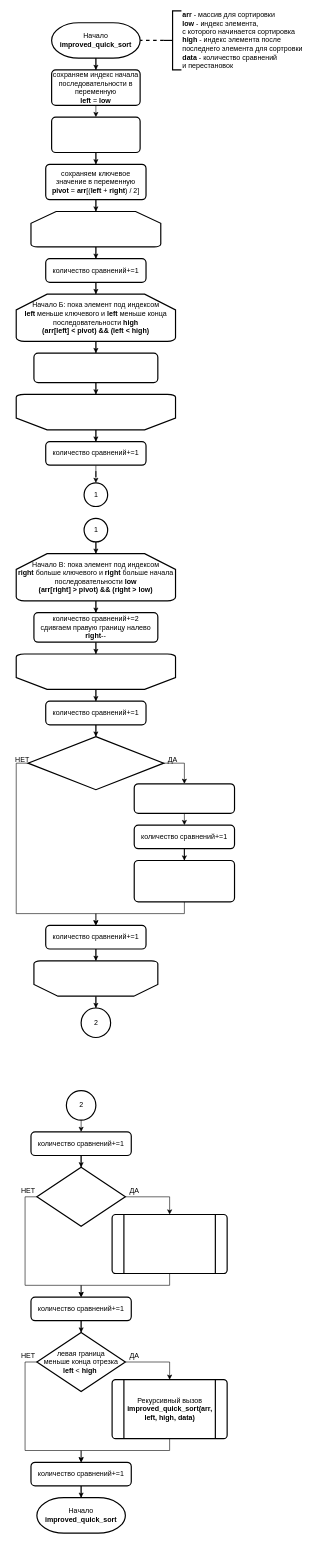
The diagram is 313 pixels wide and 1543 high, and some of its shapes have lost their labels. The centre of each missing label's shape, as x and y in pixels:
"если левая граница меньше или равна правой left <= right" belongs at (x=95, y=763).
"количество сравнений+=2 сдивгаем левую границу направо left ++" belongs at (x=95, y=367).
"Конец цикла А" belongs at (x=95, y=978).
"Конец цикла Б" belongs at (x=95, y=412).
"Конец цикла В" belongs at (x=95, y=671).
"меняем местами элементы arr[left] и arr[right]" belongs at (x=184, y=798).
"Начало А: пока левая граница меньше или равна правой left <= right" belongs at (x=95, y=229).
"правая граница больше начала right > low" belongs at (x=81, y=1196).
"Рекурсивный вызов improved_quick_sort(arr, low, right + 1, data)" belongs at (x=169, y=1244).
"сдвиг левой границы направо, сдивг правой границы налево leftt++ right--" belongs at (x=184, y=881).
"сохраняем индекс конца последовательности в переменную right = high - 1" belongs at (x=95, y=134).
